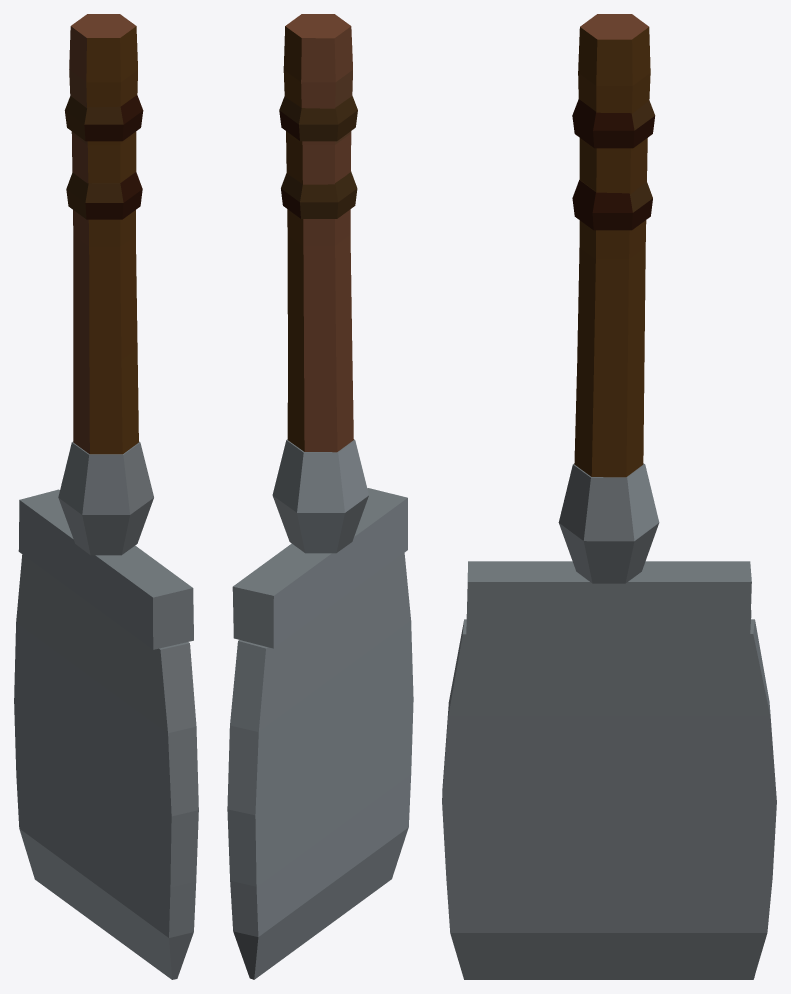
Rendered from shovel_a.glb.
3 renders of one model, left to right at view 1: azimuth 30°, elevation 25°; view 2: azimuth 150°, elevation 25°; view 3: azimuth 270°, elevation 25°, orthographic. The views are drawn at different scales.
Parts seen in each view (by area): view 1: shovel_blade, shovel_handle, shovel_collar, shovel_socket, shovel_grip; view 2: shovel_blade, shovel_handle, shovel_collar, shovel_socket, shovel_grip; view 3: shovel_blade, shovel_handle, shovel_collar, shovel_socket, shovel_grip.
Boxes of the visible parts, x1=… form: shovel_blade: x1=14, y1=554, x2=198, y2=979; shovel_handle: x1=69, y1=14, x2=138, y2=454; shovel_collar: x1=18, y1=489, x2=193, y2=649; shovel_socket: x1=58, y1=441, x2=153, y2=555; shovel_grip: x1=64, y1=95, x2=143, y2=219; shovel_blade: x1=227, y1=553, x2=413, y2=979; shovel_handle: x1=283, y1=14, x2=353, y2=452; shovel_collar: x1=232, y1=488, x2=407, y2=648; shovel_socket: x1=272, y1=439, x2=368, y2=553; shovel_grip: x1=279, y1=96, x2=357, y2=218; shovel_blade: x1=442, y1=619, x2=776, y2=979; shovel_handle: x1=574, y1=14, x2=650, y2=477; shovel_collar: x1=466, y1=561, x2=751, y2=636; shovel_socket: x1=558, y1=463, x2=659, y2=583; shovel_grip: x1=572, y1=99, x2=655, y2=230.
Bounding box in the file's own units: 0.0522 × 0.622 × 0.1984.
